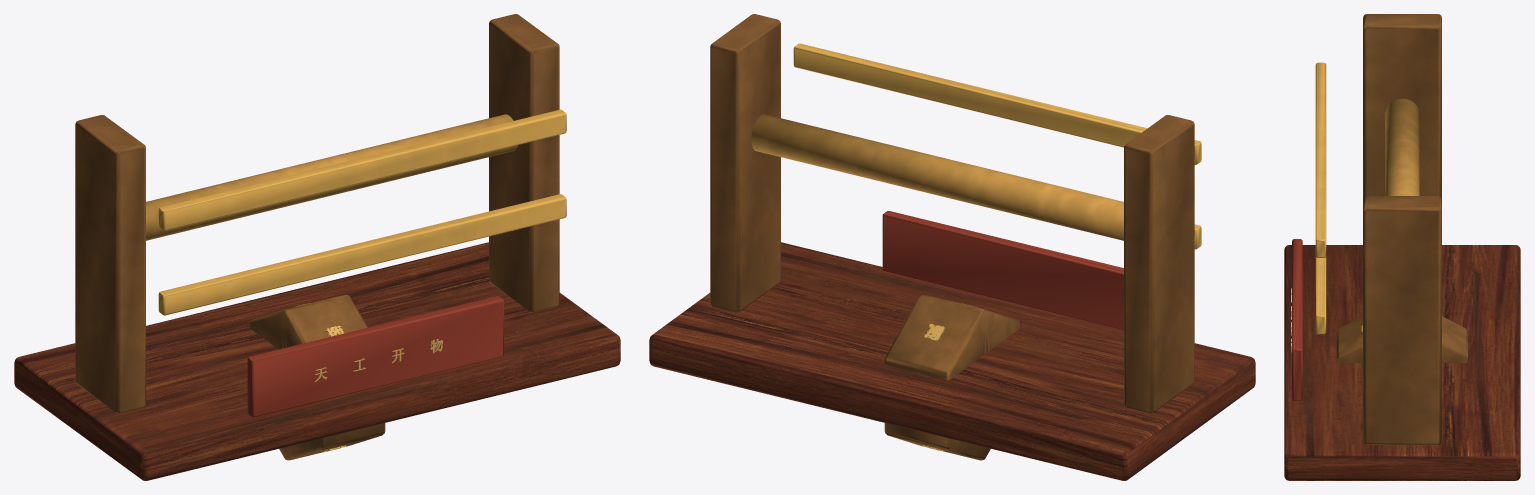
Rendered from wordlock.glb.
The picture shows the model from 3 angles, left to right: view 1: azimuth 30°, elevation 25°; view 2: azimuth 150°, elevation 25°; view 3: azimuth 270°, elevation 25°; orthographic projection. The views are drawn at different scales.
Visible parts, largest first — view 1: wl_body, wl_ring0; view 2: wl_body, wl_ring0; view 3: wl_body, wl_ring0.
Part boxes in pixels (box(x1,y1,x2,y2)): wl_body: box(14, 14, 620, 480); wl_ring0: box(249, 294, 385, 460); wl_body: box(649, 14, 1255, 480); wl_ring0: box(884, 294, 1020, 460); wl_body: box(1284, 14, 1520, 480); wl_ring0: box(1336, 316, 1468, 362).
Size of the model in its own units: 0.19 by 0.1406 by 0.09.
5 materials, 4 textured.
